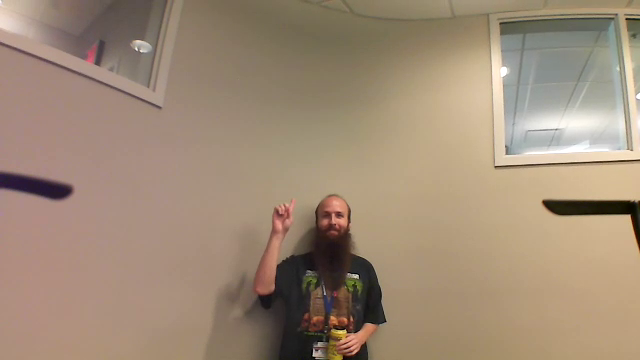up: (267, 192, 300, 235)
